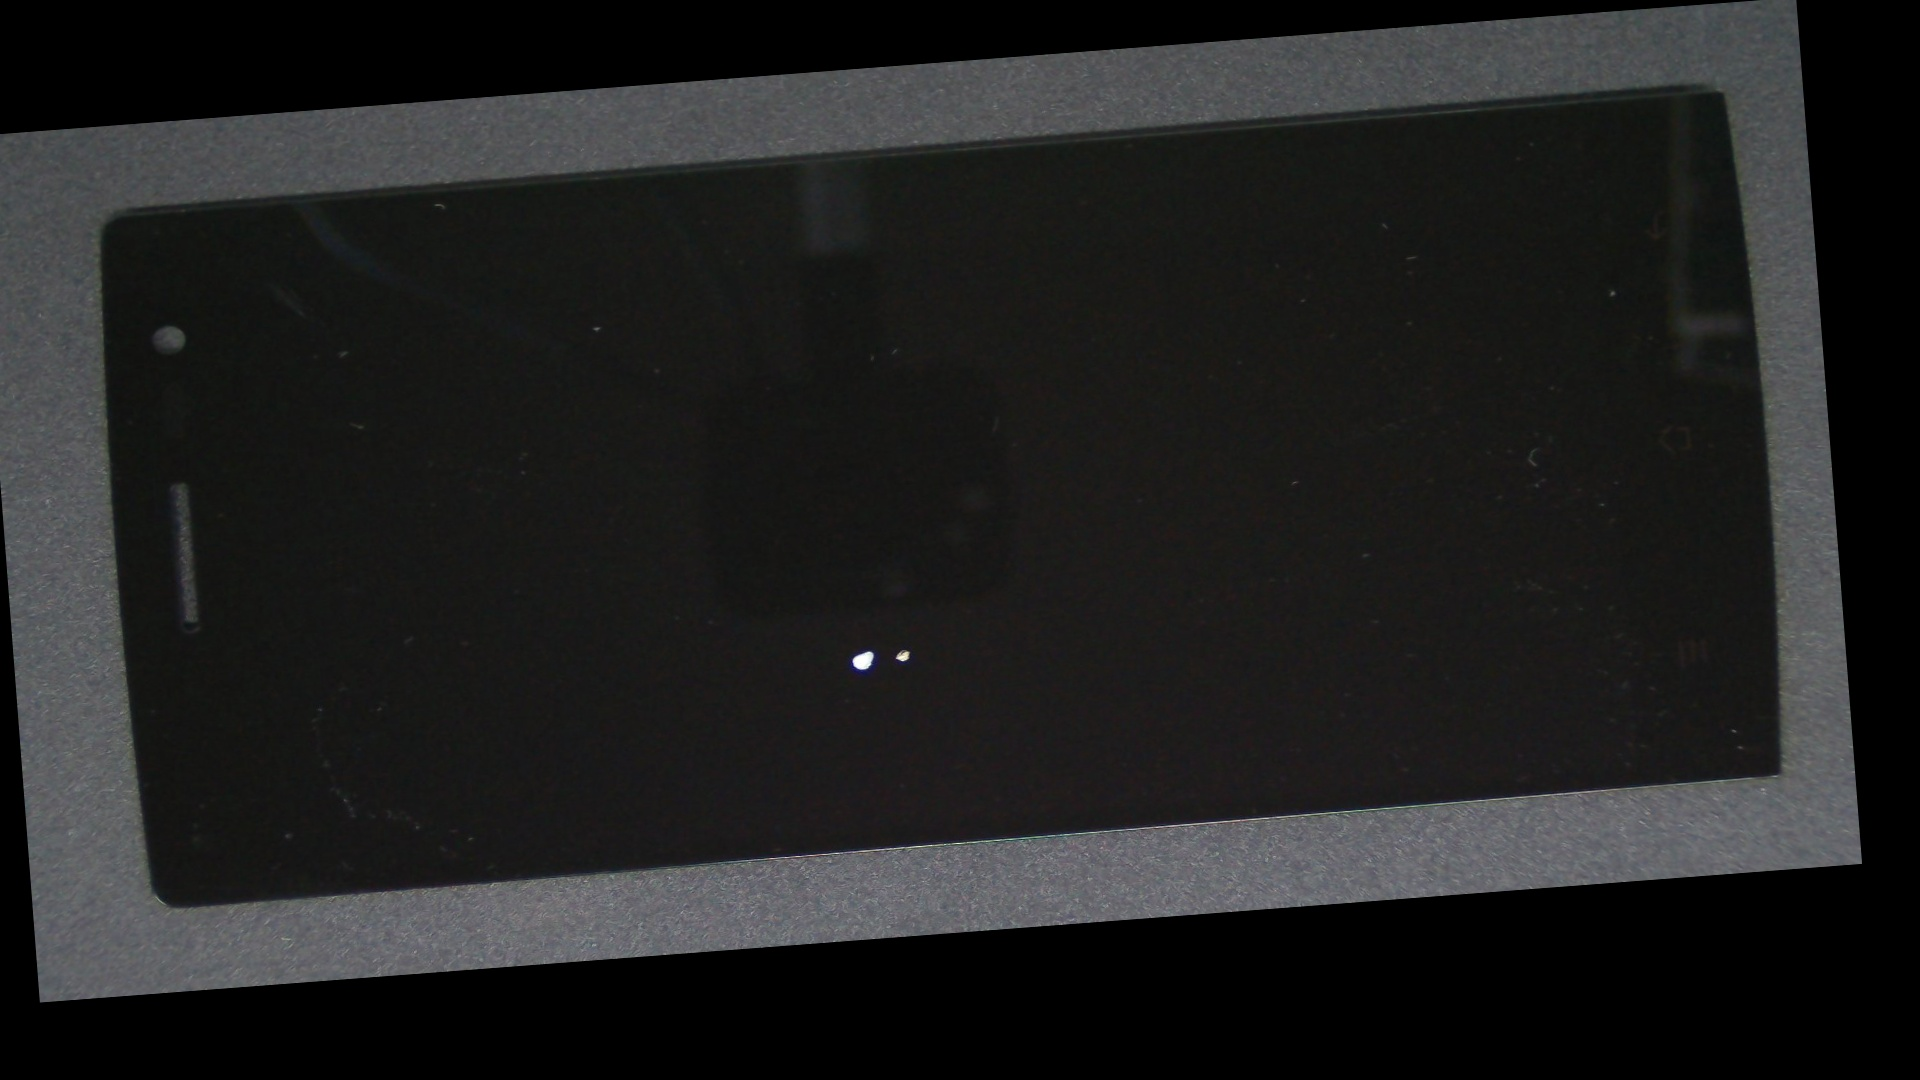oil: (438, 324, 1364, 969), (421, 328, 1313, 971)
